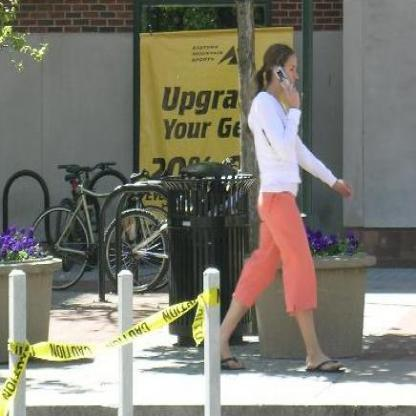person: (219, 44, 346, 372)
